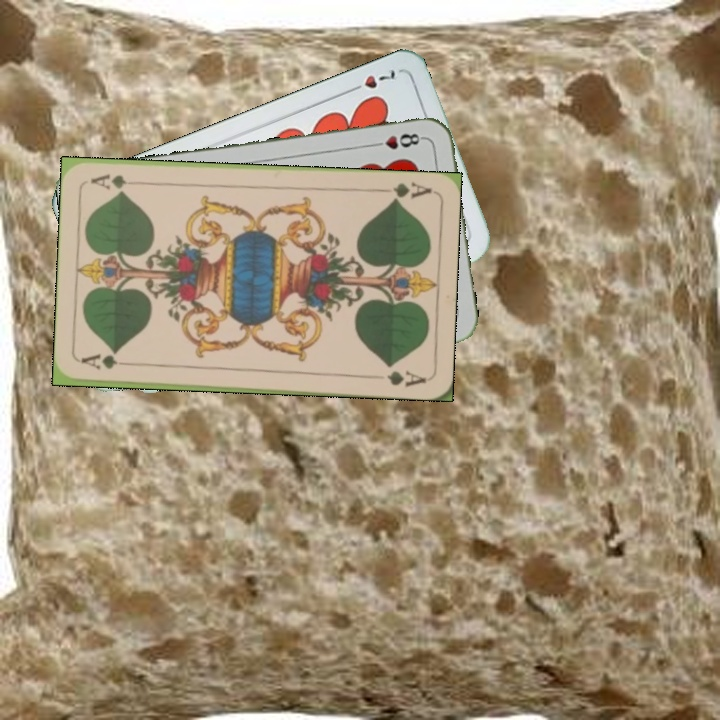GA: (375, 178, 434, 204), (78, 351, 137, 372)
H7: (344, 65, 400, 95)
H8: (368, 129, 427, 152)
